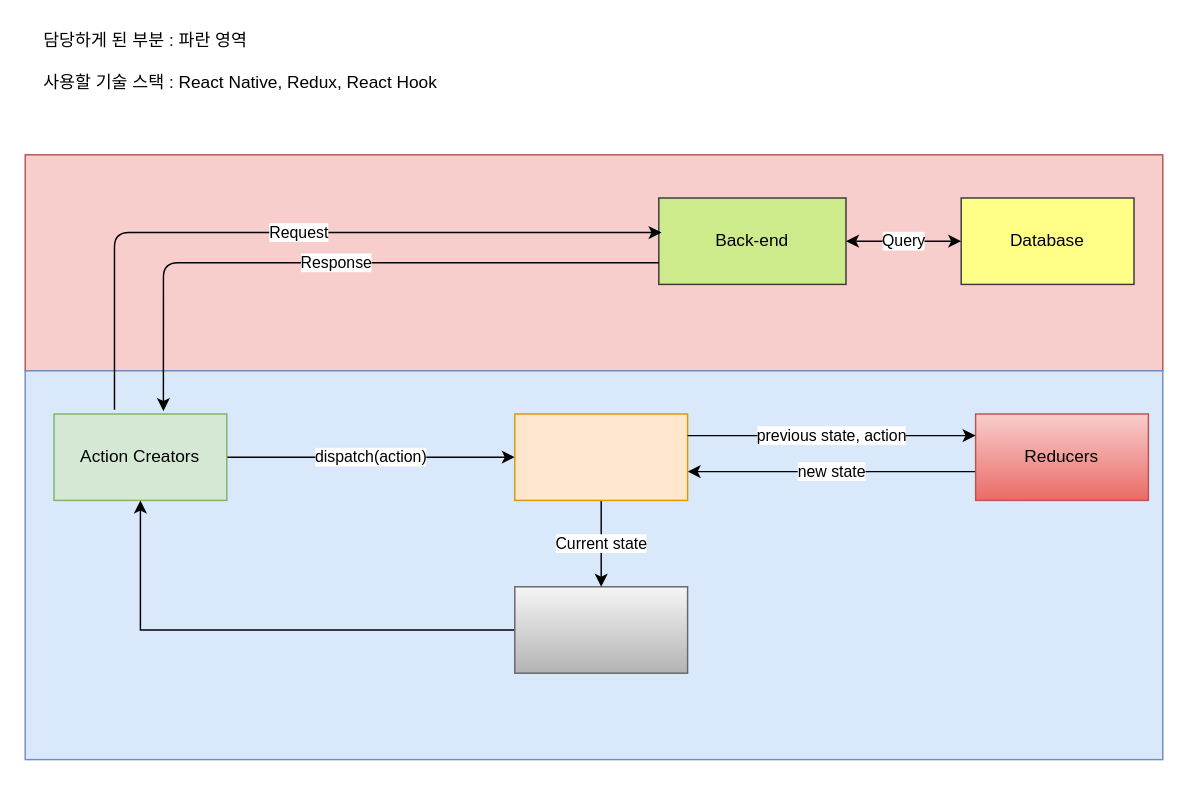
This 1188x785 diagram has some shape labels left out. Each missing label, with the box of its shape:
Store: (513, 413, 688, 500)
View(subscribe): (513, 585, 688, 673)
